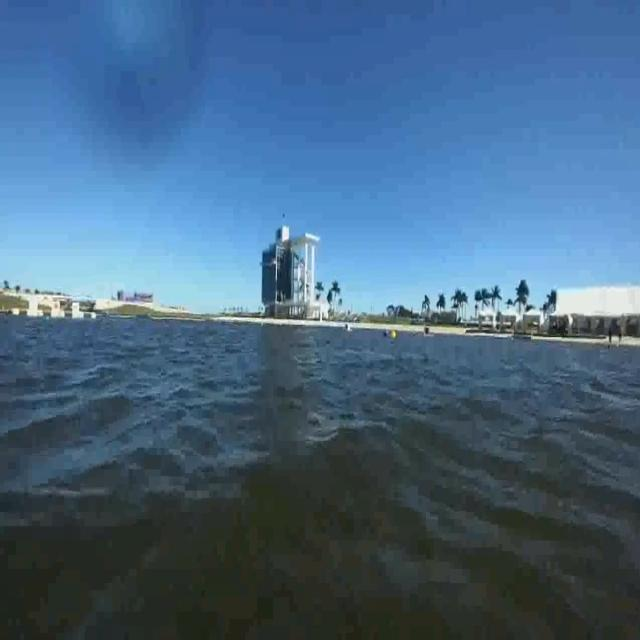yellow-buoy: (391, 328, 397, 339)
